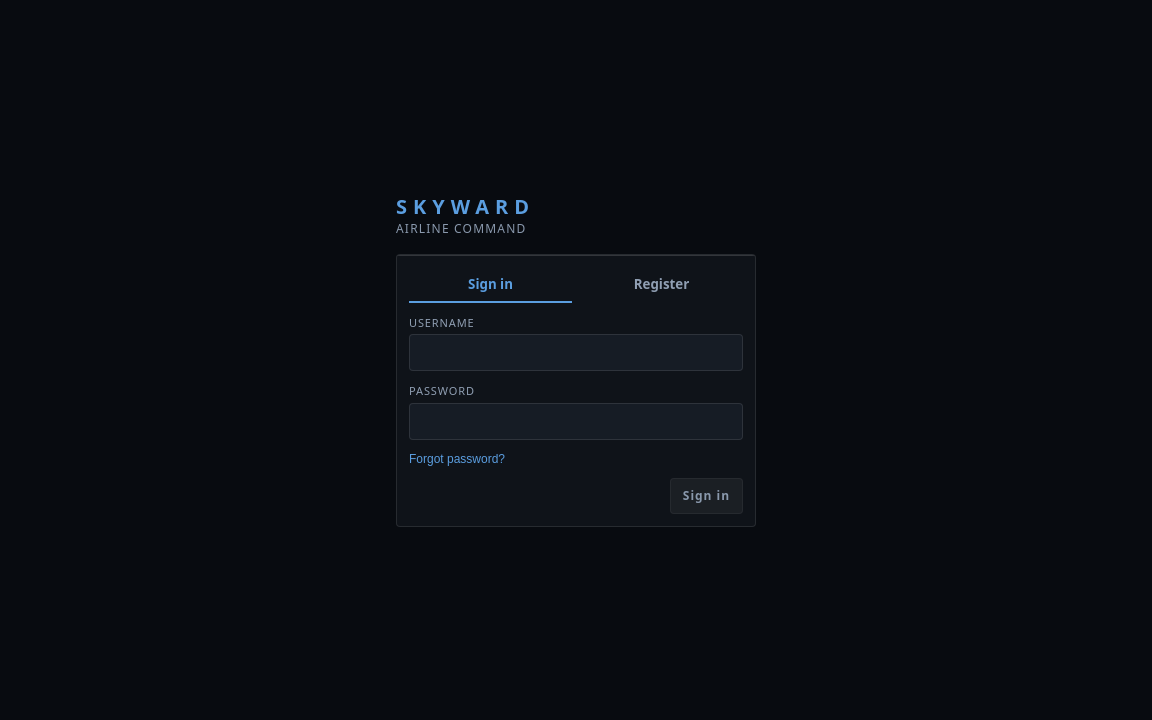
Test: halaman login — dialog reset password › baru bisa submit setelah konfirmasi cocok
Click the button "Forgot password?".
click(457, 459)  # box top-left (409, 452), bottom-right (505, 466)
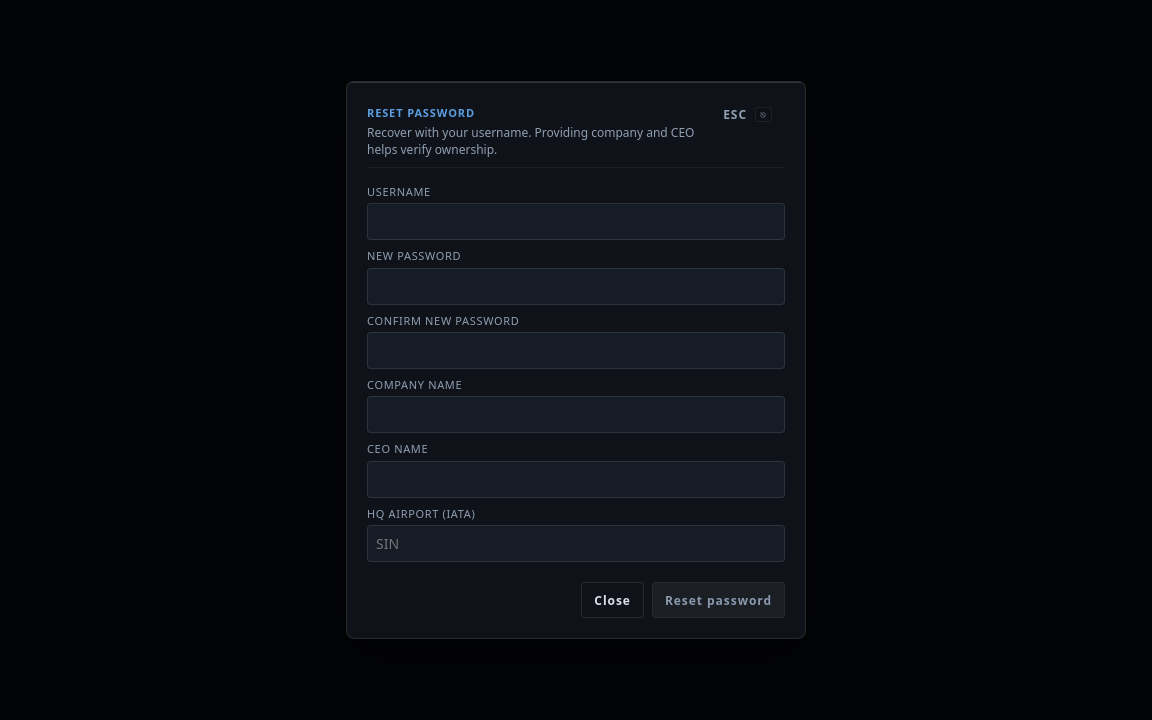
Type "pilot" into the field labelled "Username".
click(576, 222); type("pilot")  # box top-left (367, 203), bottom-right (785, 240)
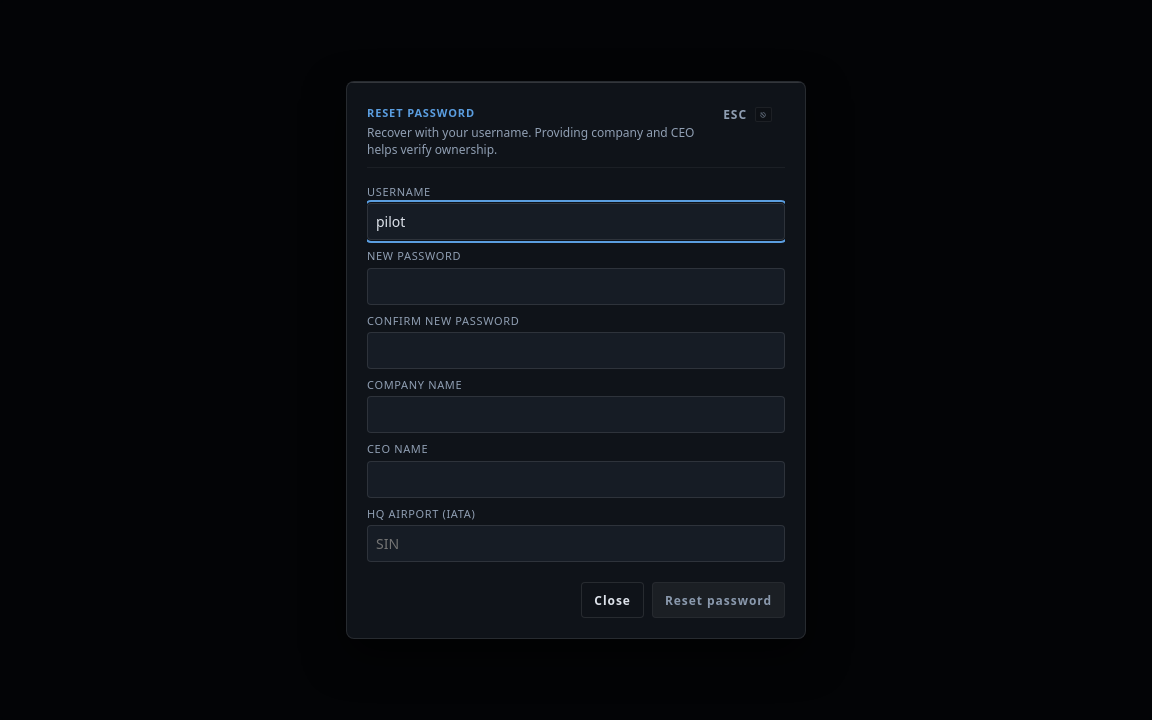
Type "newpass123" into the password field labelled "New password".
click(576, 286); type("newpass123")  # box top-left (367, 268), bottom-right (785, 305)
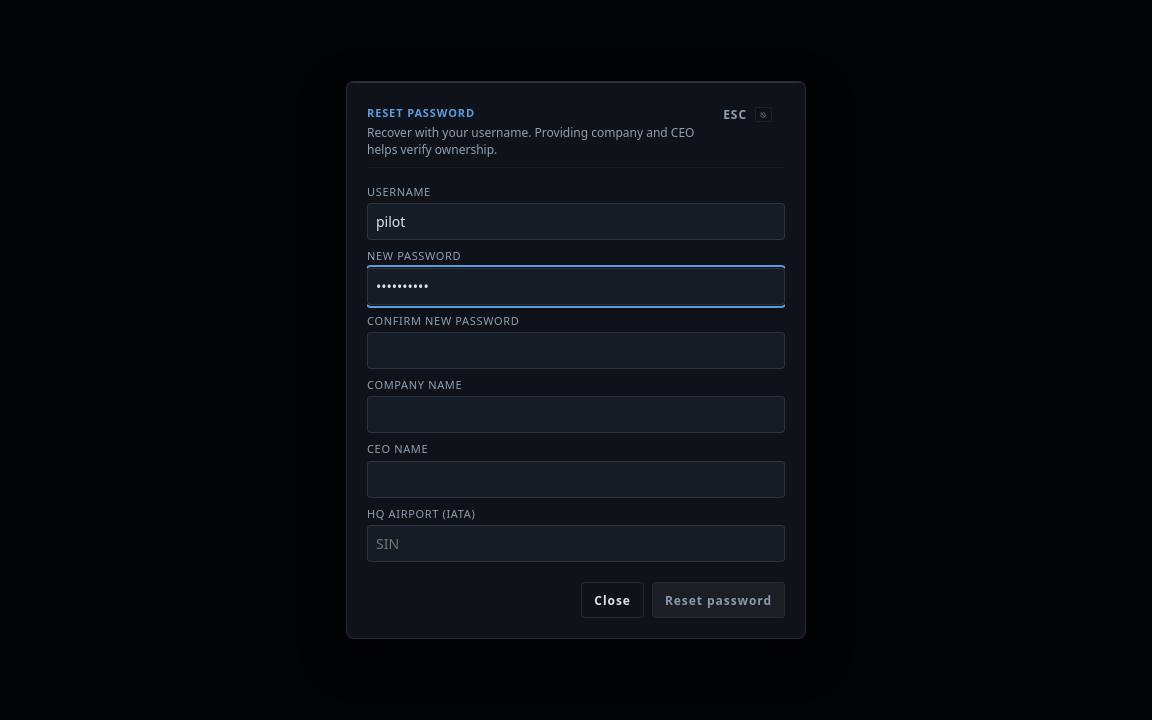
Now the button "Reset password" is disabled, box top-left (652, 582), bottom-right (785, 618)
Type "newpass12" into the password field labelled "Confirm new password".
click(576, 351); type("newpass12")  # box top-left (367, 332), bottom-right (785, 369)
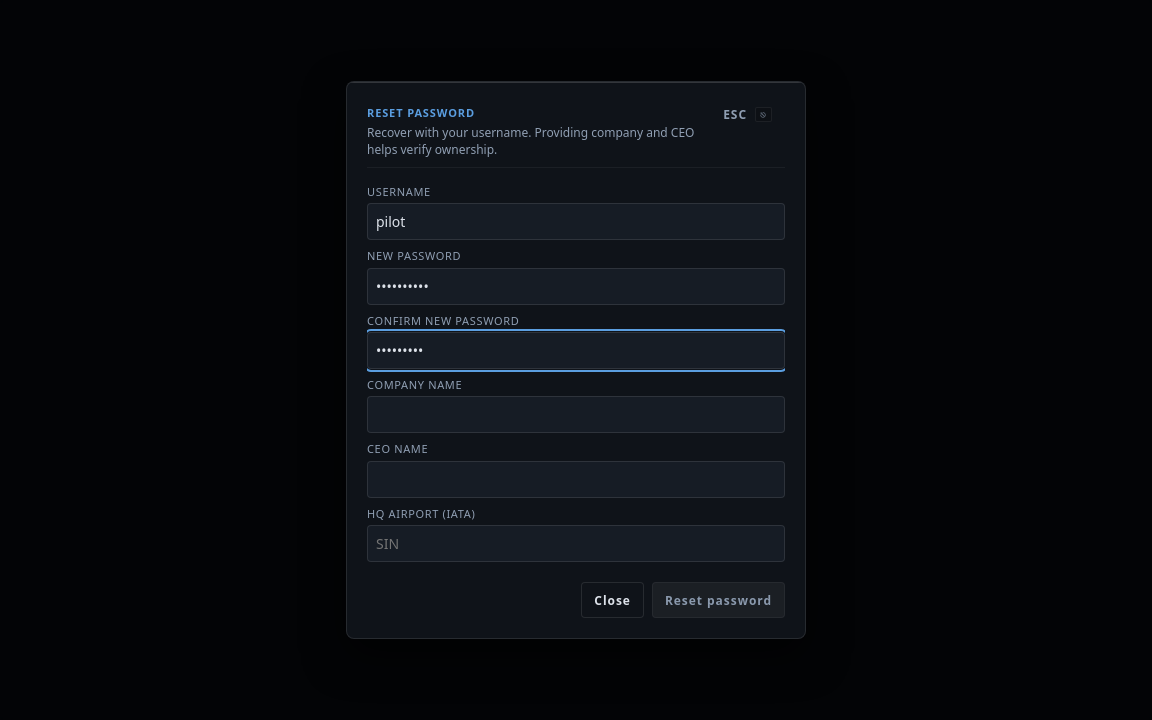
Now the button "Reset password" is disabled, box top-left (652, 582), bottom-right (785, 618)
Type "3" into the password field labelled "Confirm new password".
click(576, 351); type("3")  # box top-left (367, 332), bottom-right (785, 369)
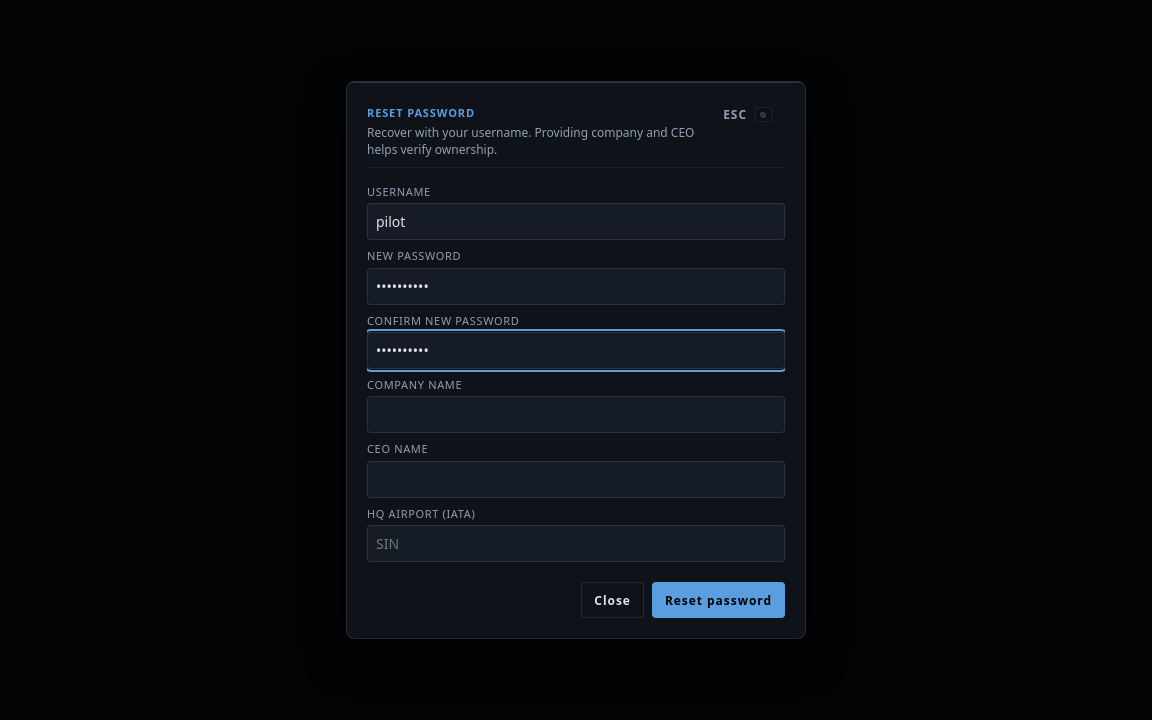
Now the button "Reset password" is enabled, box top-left (652, 582), bottom-right (785, 618)
